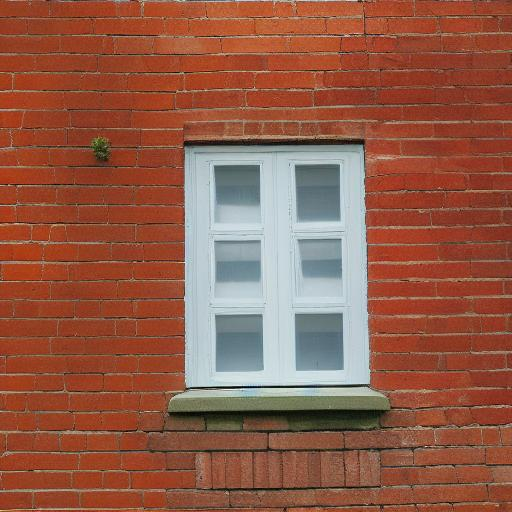Window: (167, 117, 395, 415)
